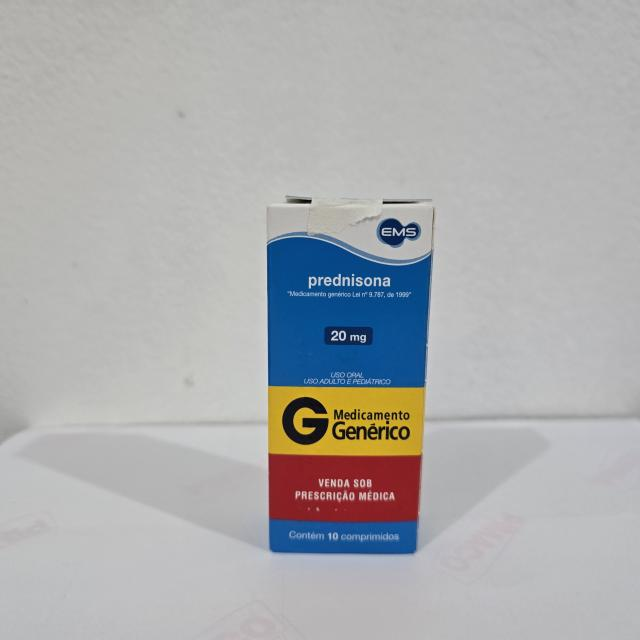prednisona: (262, 192, 438, 558)
